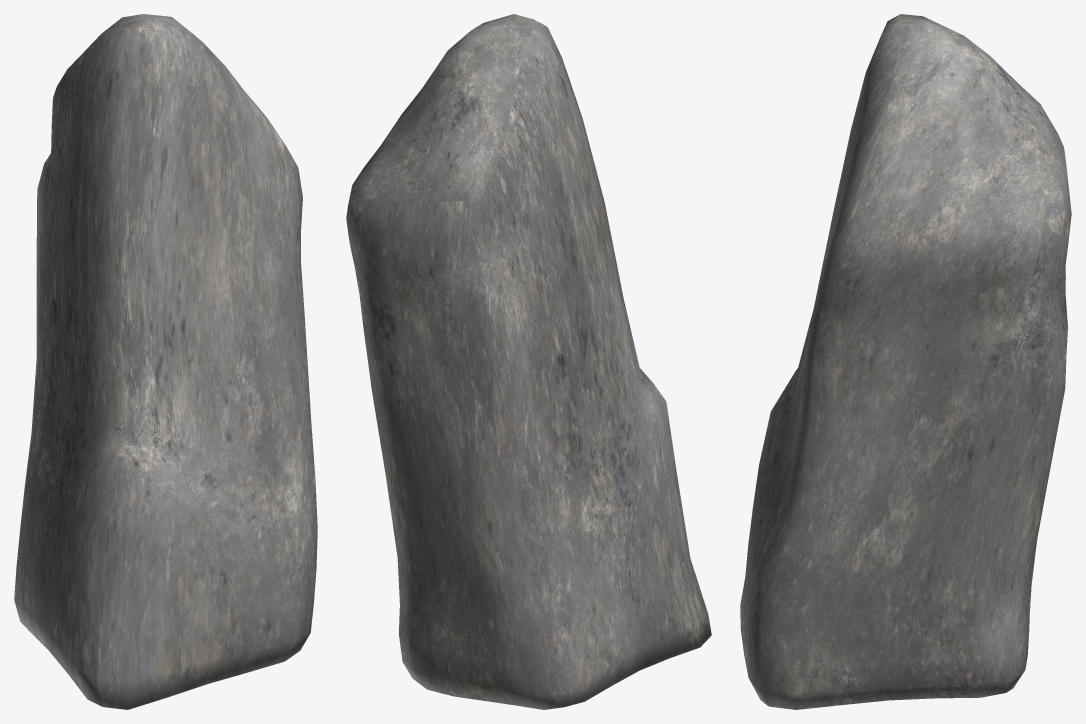
The model's file is rock_long .fbx.
The picture shows the model from 3 angles, left to right: view 1: azimuth 30°, elevation 25°; view 2: azimuth 150°, elevation 25°; view 3: azimuth 270°, elevation 25°; orthographic projection. The views are drawn at different scales.
Visible parts, largest first — view 1: Cube; view 2: Cube; view 3: Cube.
Boxes of the visible parts, x1,y1,x2,y2 form: Cube: (14,14,317,709); Cube: (346,14,711,709); Cube: (740,14,1071,709).
Size of the model in its own units: 152 by 365 by 167.
